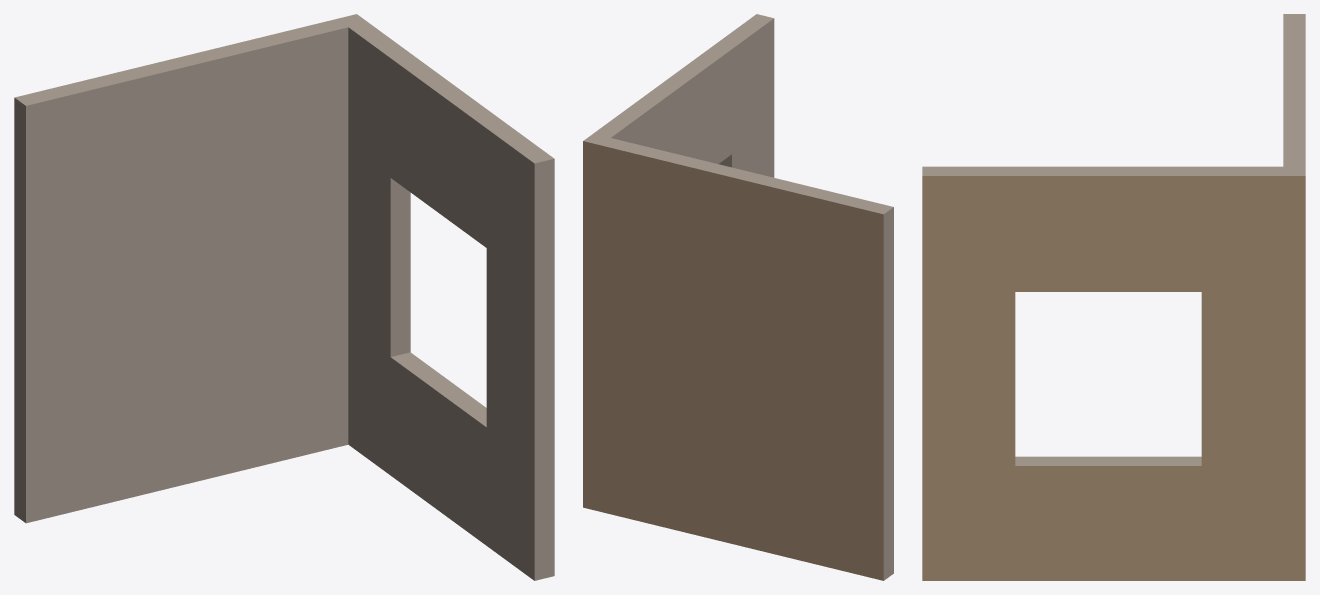
File: Wall2_C4_11.fbx
3 renders of one model, left to right at view 1: azimuth 30°, elevation 25°; view 2: azimuth 150°, elevation 25°; view 3: azimuth 270°, elevation 25°, orthographic. The views are drawn at different scales.
Visible parts, largest first — view 1: Wall2_C4_11; view 2: Wall2_C4_11; view 3: Wall2_C4_11.
Boxes of the visible parts, x1,y1,x2,y2 form: Wall2_C4_11: [14, 14, 554, 580]; Wall2_C4_11: [583, 14, 893, 580]; Wall2_C4_11: [922, 14, 1305, 580].
Bounding box in the file's own units: 258 × 300 × 258.
